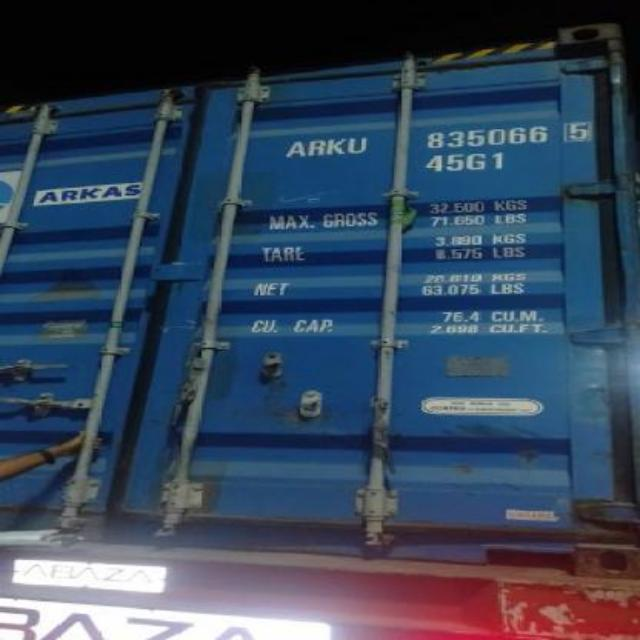0: (484, 124, 508, 148)
3: (460, 124, 486, 150), (444, 126, 462, 150)
5: (560, 121, 596, 142)
6: (526, 122, 548, 146), (506, 123, 526, 147)
8: (422, 128, 446, 148)
A: (284, 135, 304, 161)
K: (324, 132, 344, 158)
R: (300, 133, 326, 159)
U: (342, 130, 372, 156)
